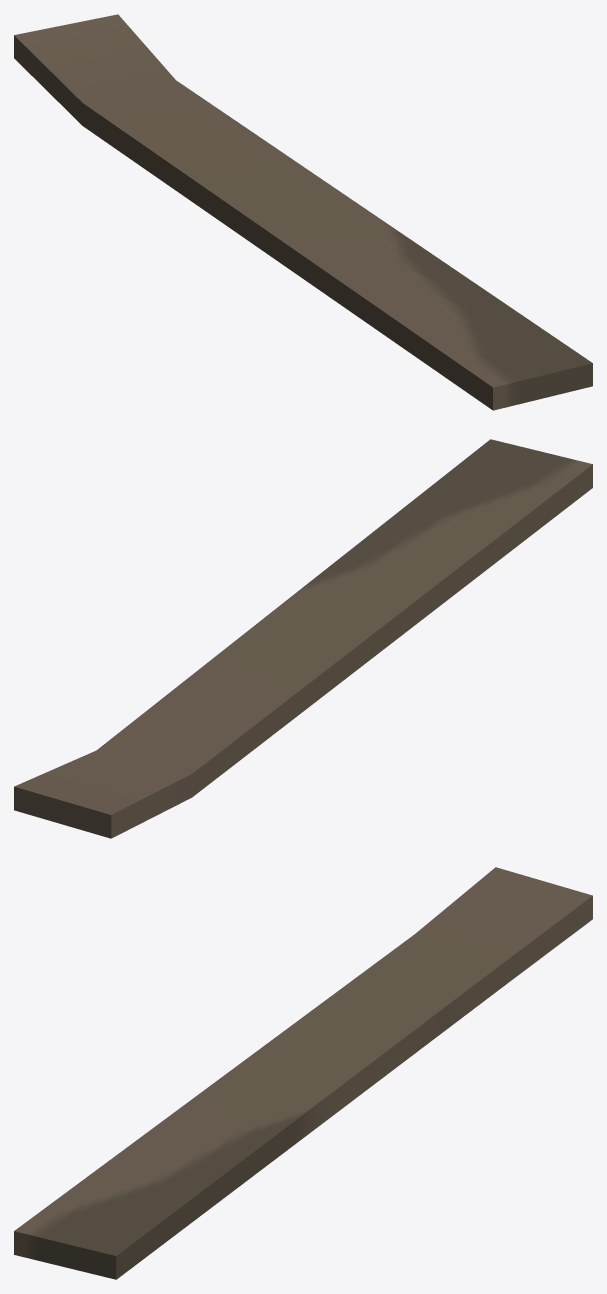
The model's file is SM_Bld_Dock_Plank_04.fbx.
The picture shows the model from 3 angles, top to bottom: view 1: azimuth 30°, elevation 25°; view 2: azimuth 150°, elevation 25°; view 3: azimuth 330°, elevation 25°; orthographic projection. The views are drawn at different scales.
Parts seen in each view (by area): view 1: SM_Bld_Dock_Plank_04; view 2: SM_Bld_Dock_Plank_04; view 3: SM_Bld_Dock_Plank_04.
Part boxes in pixels (x1,y1,x2,y2): SM_Bld_Dock_Plank_04: [14, 14, 592, 410]; SM_Bld_Dock_Plank_04: [14, 439, 592, 838]; SM_Bld_Dock_Plank_04: [14, 867, 592, 1279].
Bounding box in the file's own units: 35.5 × 11.02 × 266.
